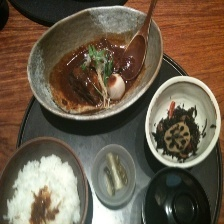sabzi: (37, 37, 147, 112)
